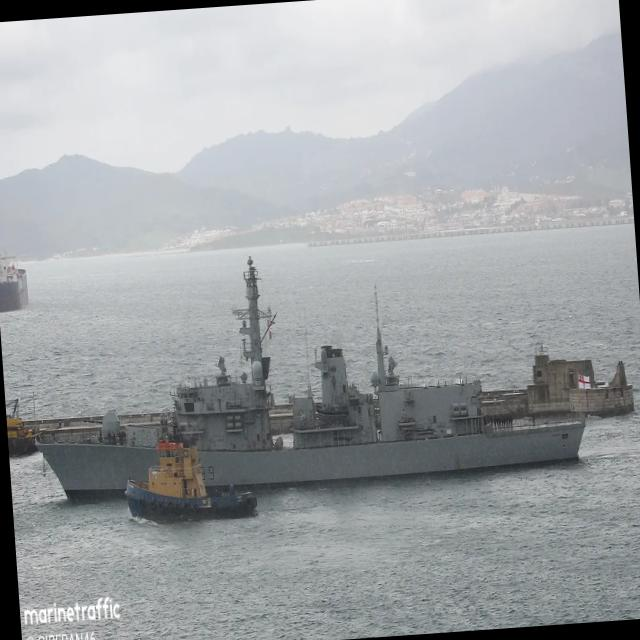Military: (37, 260, 584, 497)
Tug: (125, 440, 256, 517)
